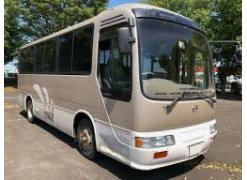bus: (17, 3, 220, 171)
